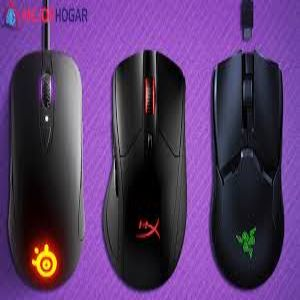mouse: (202, 39, 290, 291), (106, 44, 188, 293), (7, 38, 84, 295)
